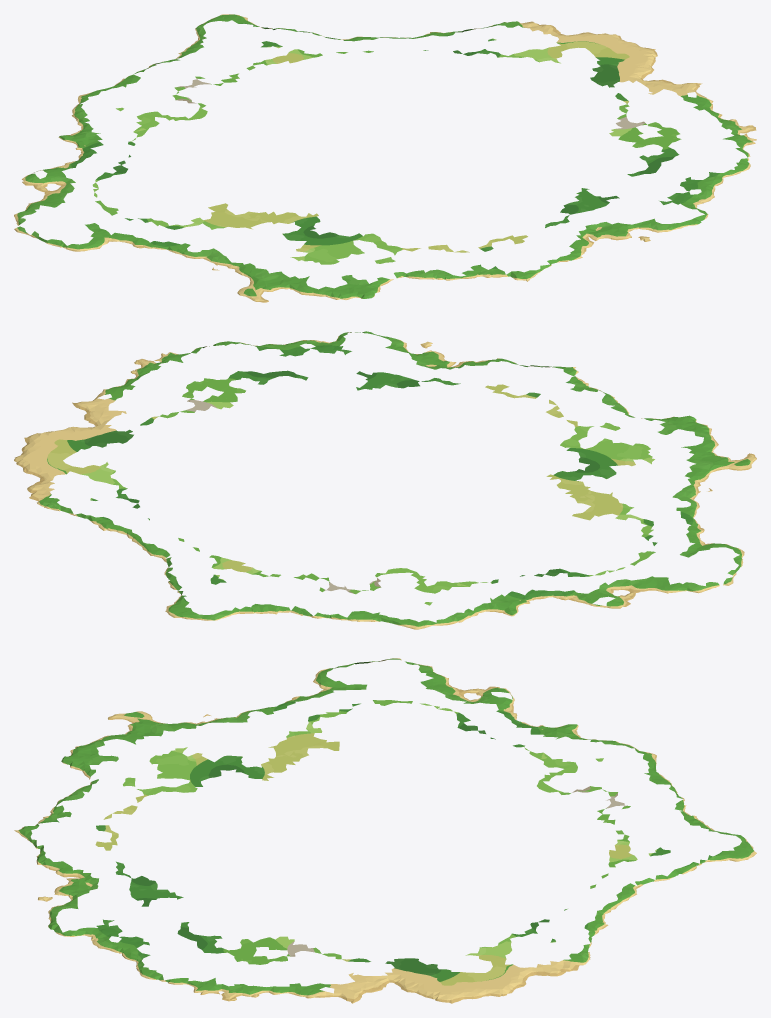
File: Isl-rocky3-Ground.fbx
The picture shows the model from 3 angles, top to bottom: view 1: azimuth 30°, elevation 25°; view 2: azimuth 150°, elevation 25°; view 3: azimuth 270°, elevation 25°; orthographic projection. The views are drawn at different scales.
Parts seen in each view (by area): view 1: Isl-rocky3-Ground-c11, Isl-rocky3-Ground-c21, Isl-rocky3-Ground-c22, Isl-rocky3-Ground-c12, Isl-rocky3-Ground-c02, Isl-rocky3-Ground-c01; view 2: Isl-rocky3-Ground-c11, Isl-rocky3-Ground-c21, Isl-rocky3-Ground-c22, Isl-rocky3-Ground-c12, Isl-rocky3-Ground-c02, Isl-rocky3-Ground-c01; view 3: Isl-rocky3-Ground-c21, Isl-rocky3-Ground-c11, Isl-rocky3-Ground-c22, Isl-rocky3-Ground-c12, Isl-rocky3-Ground-c02, Isl-rocky3-Ground-c01.
Part boxes in pixels (x1,y1,x2,y2): Isl-rocky3-Ground-c11: [113, 203, 527, 302]; Isl-rocky3-Ground-c21: [545, 79, 756, 253]; Isl-rocky3-Ground-c22: [232, 16, 655, 86]; Isl-rocky3-Ground-c12: [57, 20, 287, 195]; Isl-rocky3-Ground-c02: [14, 166, 107, 232]; Isl-rocky3-Ground-c01: [17, 207, 167, 251]; Isl-rocky3-Ground-c11: [485, 379, 756, 554]; Isl-rocky3-Ground-c21: [77, 331, 500, 433]; Isl-rocky3-Ground-c22: [14, 426, 245, 607]; Isl-rocky3-Ground-c12: [185, 565, 622, 629]; Isl-rocky3-Ground-c02: [576, 558, 732, 608]; Isl-rocky3-Ground-c01: [638, 517, 744, 582]; Isl-rocky3-Ground-c21: [46, 858, 393, 999]; Isl-rocky3-Ground-c11: [44, 703, 384, 850]; Isl-rocky3-Ground-c22: [391, 849, 741, 999]; Isl-rocky3-Ground-c12: [426, 704, 740, 850]; Isl-rocky3-Ground-c02: [392, 658, 514, 708]; Isl-rocky3-Ground-c01: [278, 658, 392, 706].
Bounding box in the file's own units: 124 × 0.4899 × 113.
